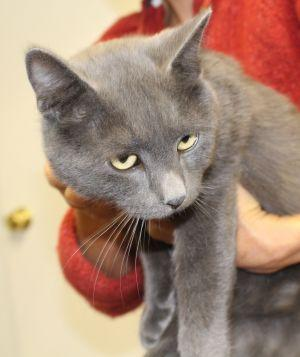rblue: (18, 1, 236, 254)
